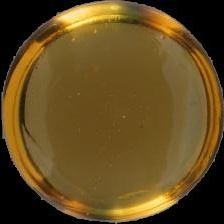24090-491: (0, 0, 224, 224)
